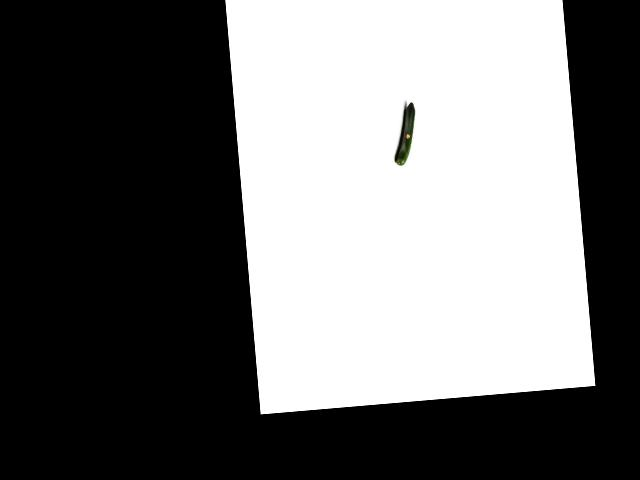cucumber: (390, 102, 419, 166)
